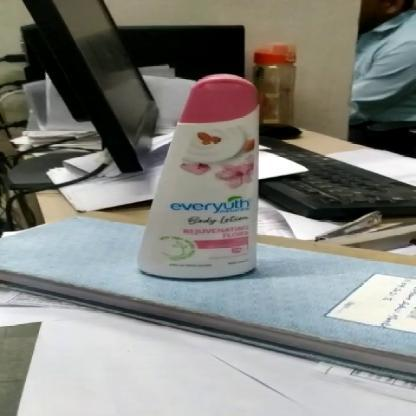Everyuth Naturals Body Lotion Rejuvenating Flora 200ml: (132, 70, 266, 282)
